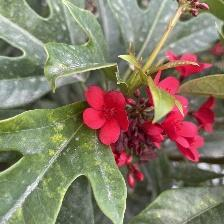jatropha: (145, 110, 210, 163), (83, 87, 132, 147), (144, 65, 191, 114), (163, 48, 212, 80), (190, 99, 219, 133)
